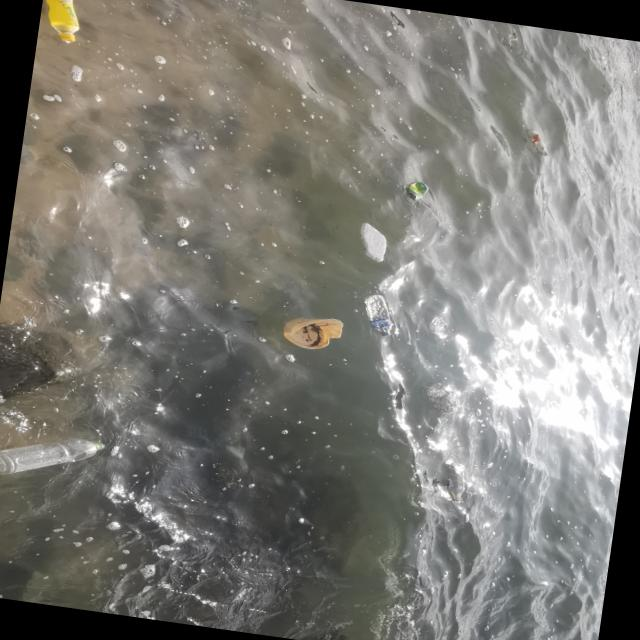can: (403, 180, 431, 203)
plastic bottle: (1, 438, 106, 475), (38, 1, 87, 44), (358, 294, 398, 340), (354, 222, 390, 264), (525, 129, 552, 158)
